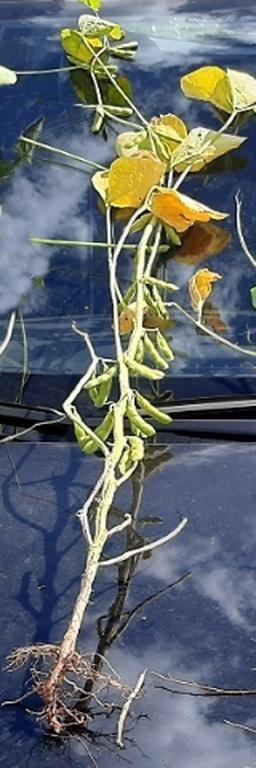pod: (139, 398, 174, 424), (81, 365, 115, 388), (130, 407, 156, 435), (127, 362, 165, 379), (144, 276, 178, 292), (96, 379, 112, 408), (128, 435, 145, 462), (158, 335, 175, 361)
soy: (55, 19, 245, 712)
